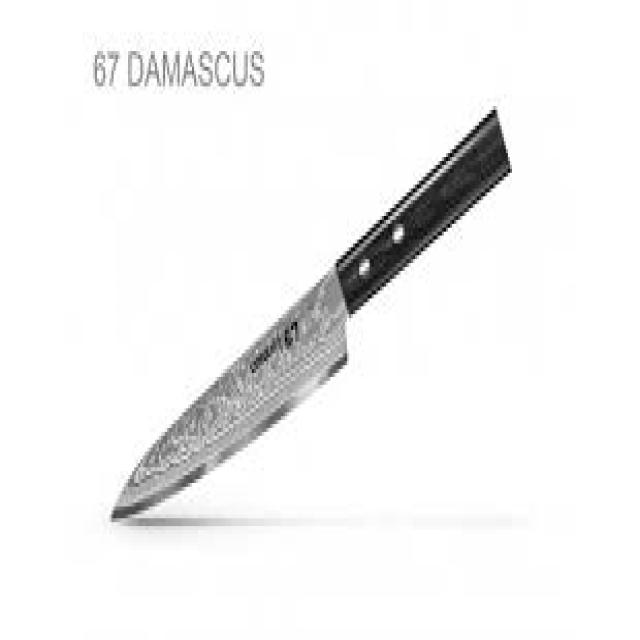knives: (105, 98, 514, 530)
